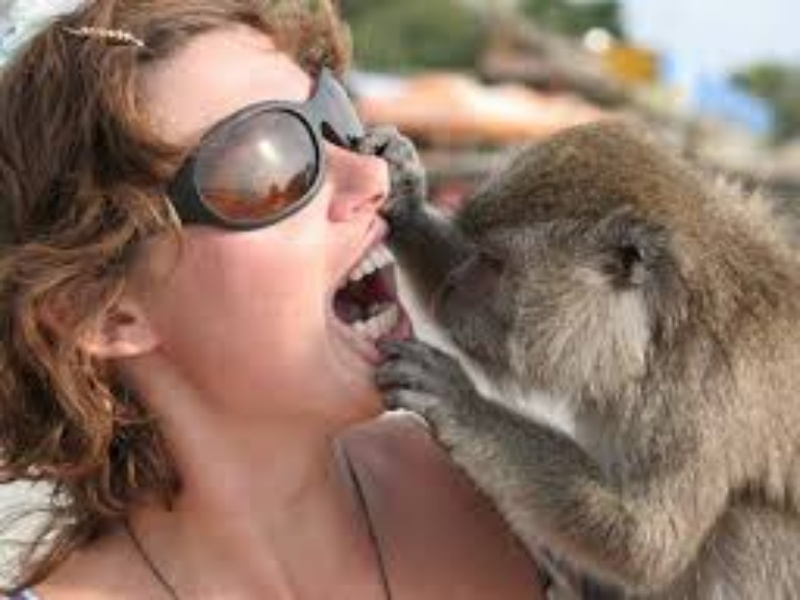monkey: (380, 91, 785, 496)
